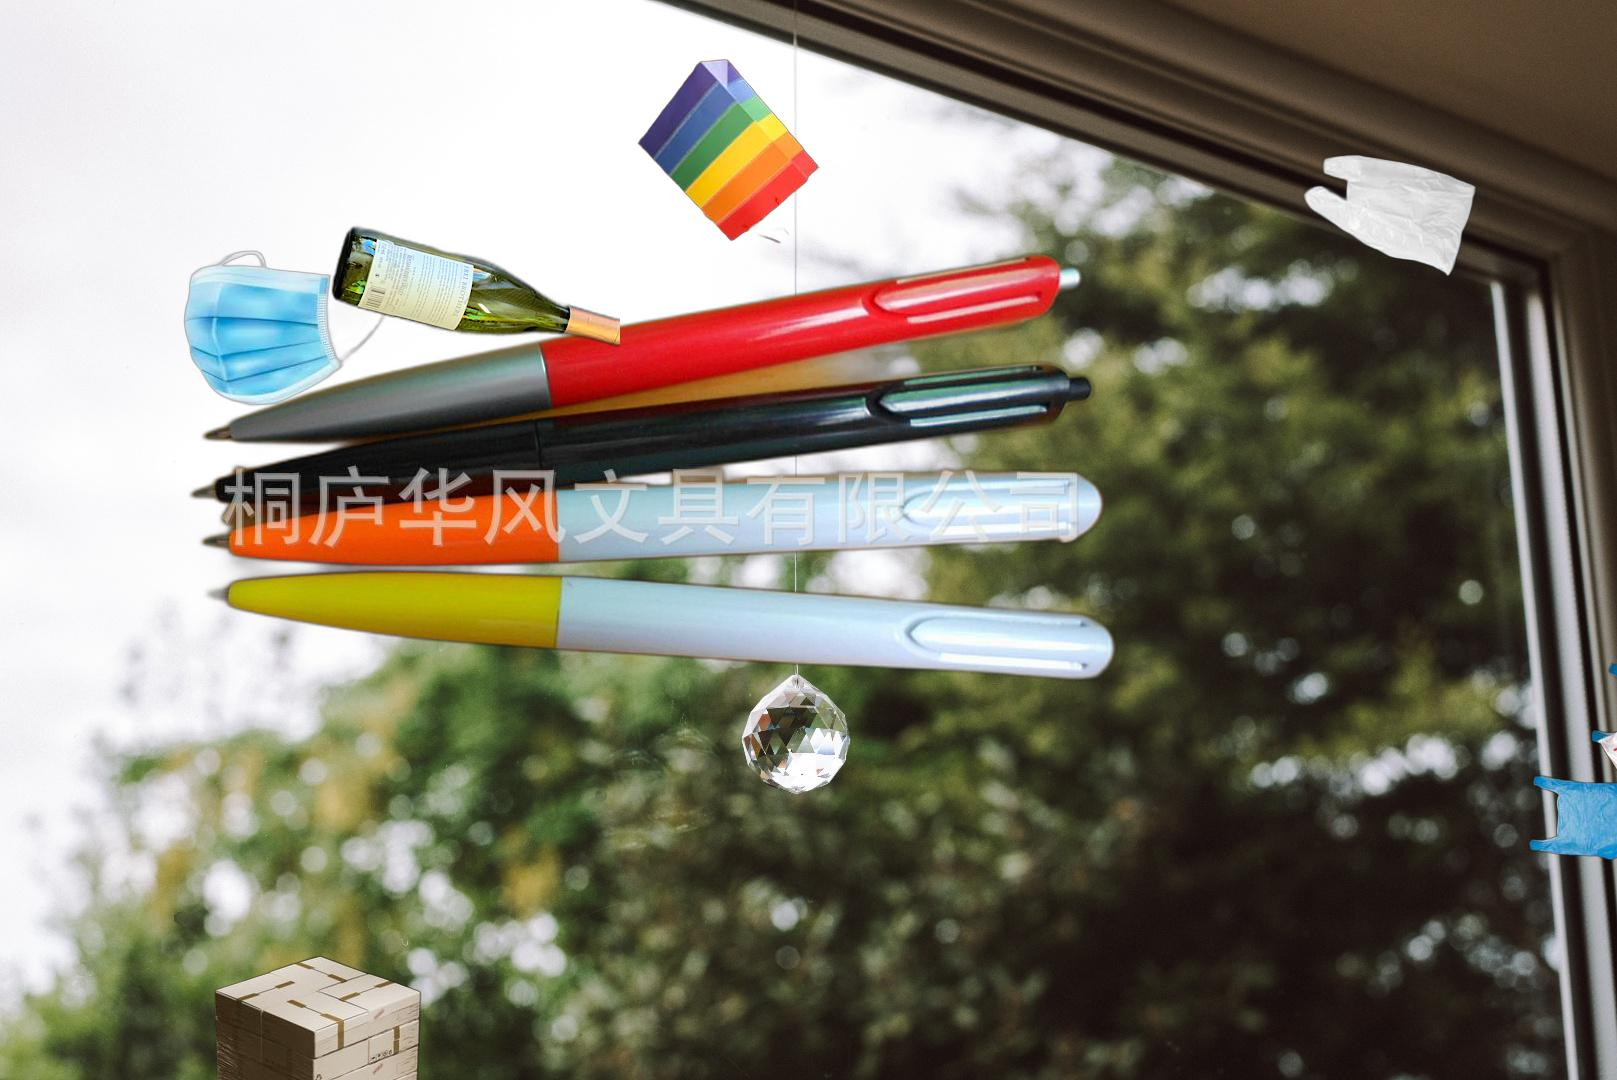glass: (327, 221, 621, 352)
paper-bag: (635, 55, 822, 243)
penholder: (184, 247, 1137, 687)
plastic-bag: (1300, 152, 1478, 278), (1525, 661, 1617, 884)
trash: (181, 248, 392, 409)
trashbox-cardboard: (206, 953, 430, 1080)
